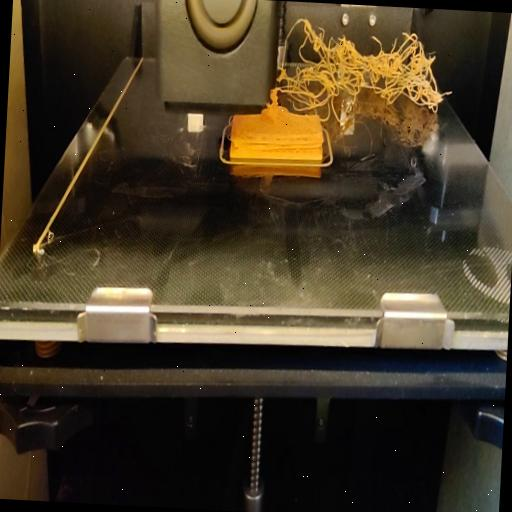spaghetti: (274, 14, 457, 129)
